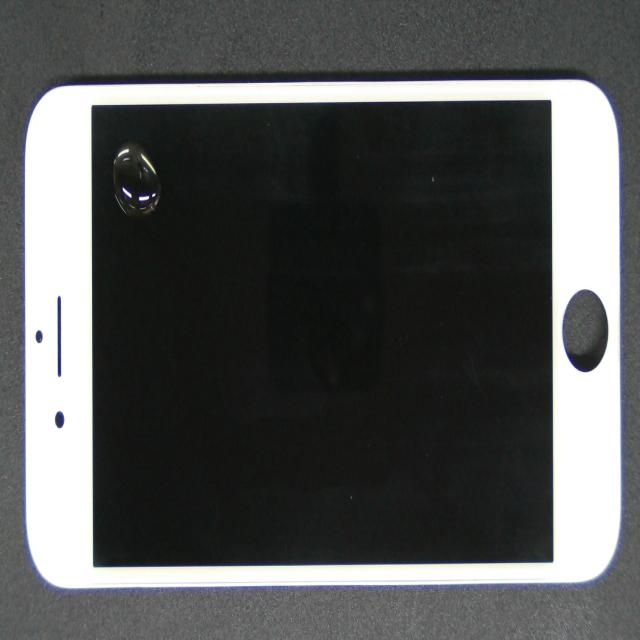oil: (83, 103, 241, 257)
